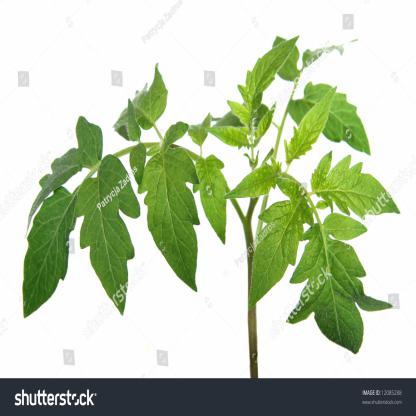tomato leaf: (77, 155, 164, 355), (300, 205, 380, 369), (144, 125, 212, 309), (307, 145, 412, 250), (19, 173, 87, 325), (227, 33, 294, 165), (275, 75, 342, 191), (248, 191, 306, 307)
